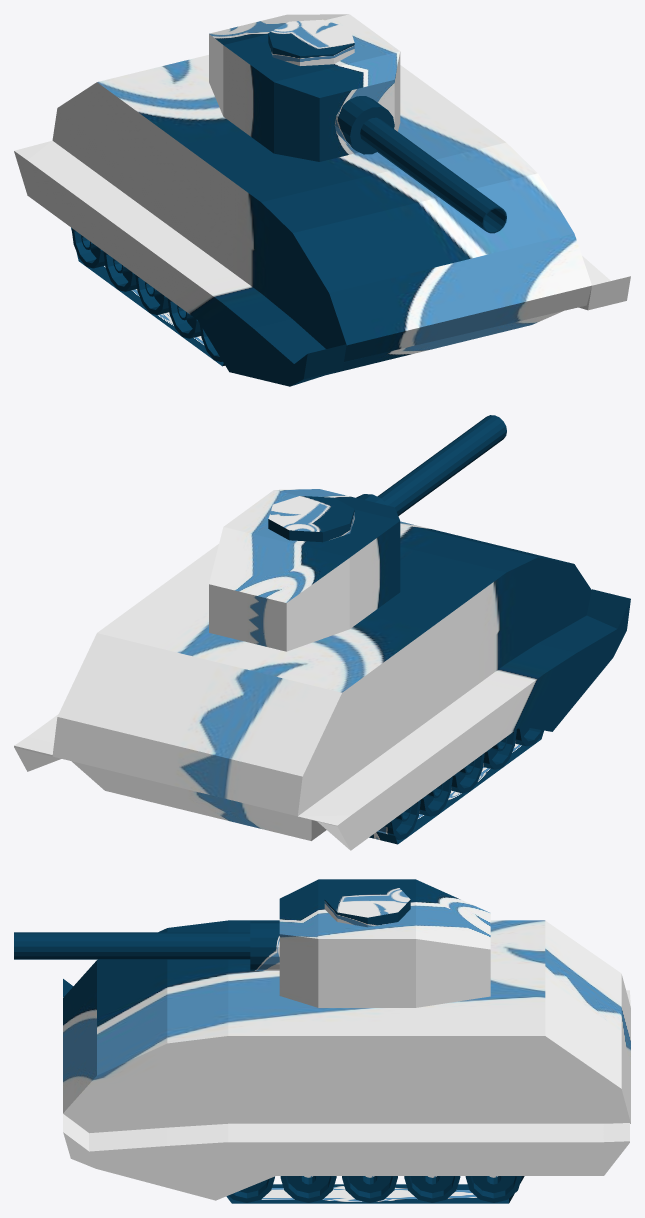
Rendered from tank.fbx.
3 renders of one model, top to bottom at view 1: azimuth 30°, elevation 25°; view 2: azimuth 150°, elevation 25°; view 3: azimuth 270°, elevation 25°, orthographic. The views are drawn at different scales.
Visible parts, largest first — view 1: Cube; view 2: Cube; view 3: Cube.
Boxes of the visible parts, box(x1,y1,x2,y2) form: Cube: box(14, 14, 630, 386); Cube: box(14, 415, 630, 850); Cube: box(14, 879, 630, 1203).
Bounding box in the file's own units: 414 × 291 × 710.
Materials: 1 (1 with a texture image).
